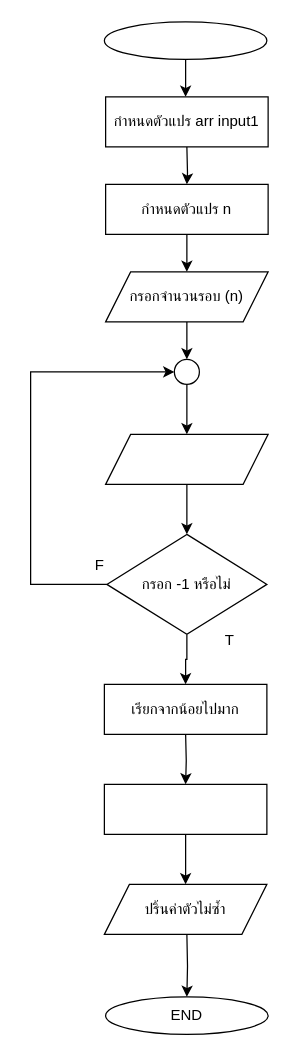
This 290x1056 diagram has some shape labels left out. Here are the shapes that lost their labels. From the top down, the centre of each, then its label:
the point at 185,40: Start
the point at 186,458: กรอกตัวแปร input
the point at 185,808: นับตัวซ้ำ
